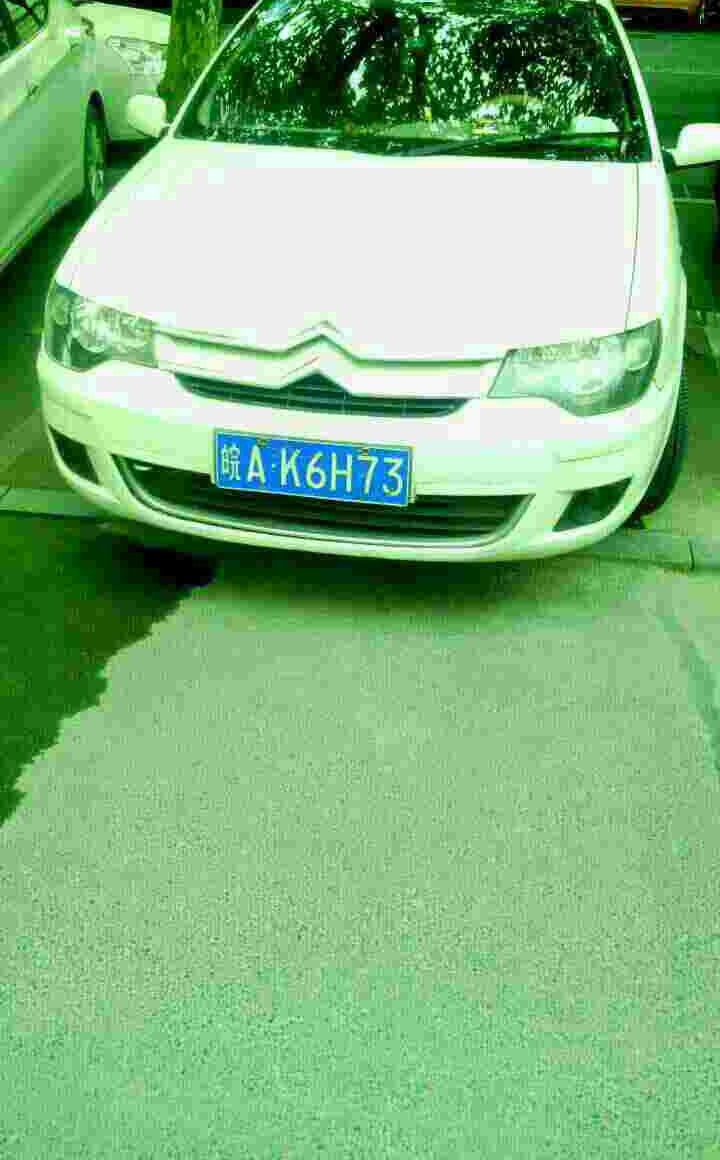license_plate: (212, 442, 418, 504)
